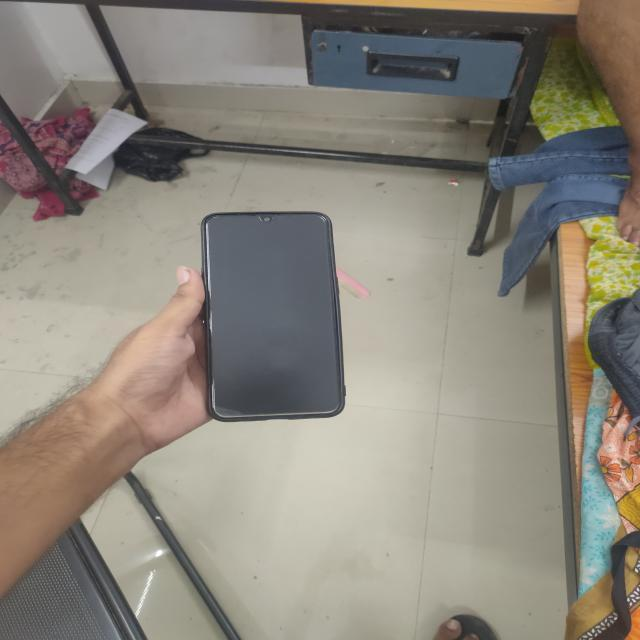Phone: (198, 209, 348, 422)
